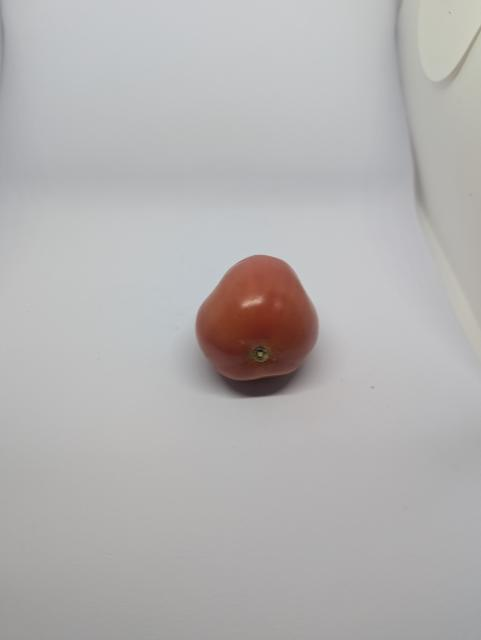red: (173, 243, 332, 401)
